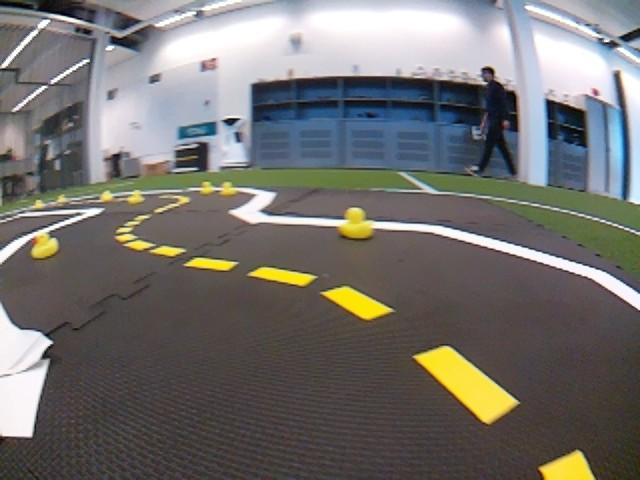Duckies: (336, 206, 376, 240), (29, 233, 62, 260), (126, 189, 145, 205), (219, 181, 237, 197), (198, 180, 216, 196), (99, 191, 114, 202), (33, 200, 46, 210), (57, 195, 66, 203)
